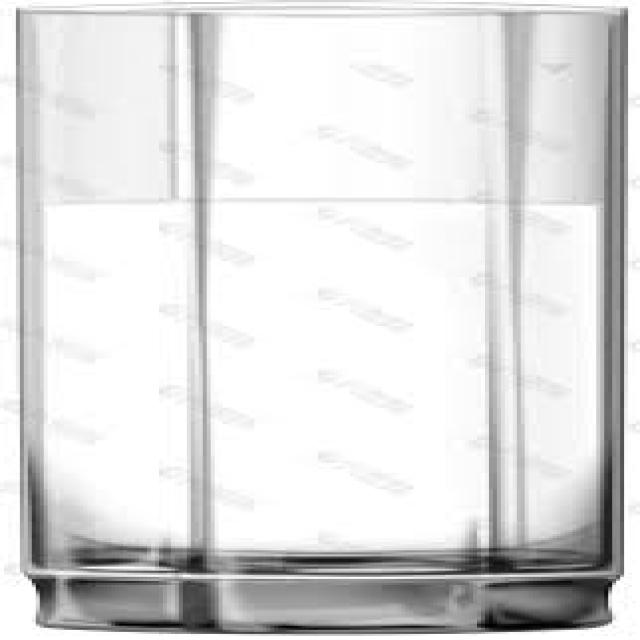glass: (0, 0, 632, 632)
